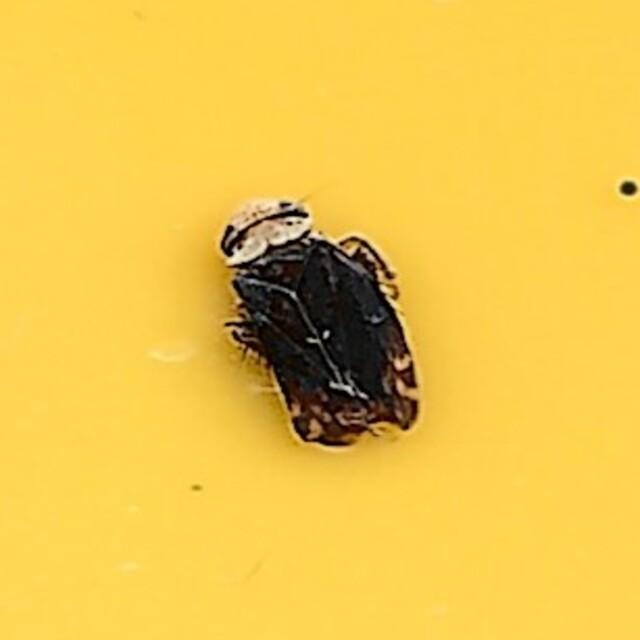Hemiptera: (208, 183, 432, 457)
